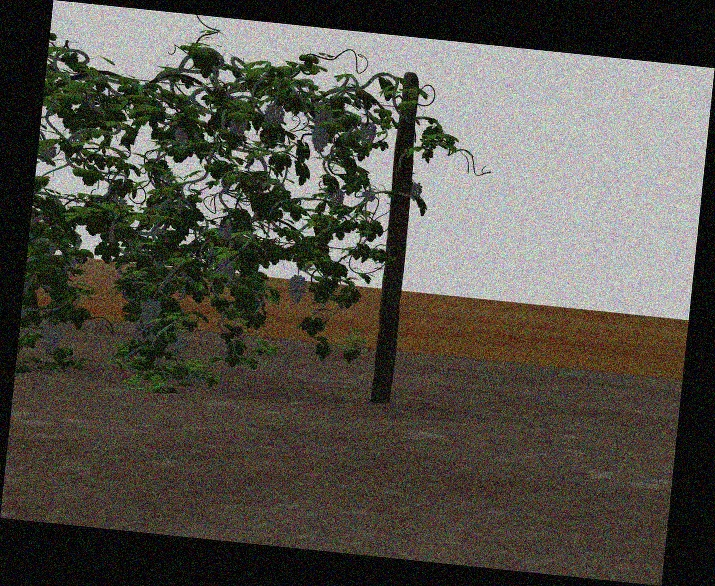grape: (39, 324, 64, 356), (139, 298, 161, 331), (287, 274, 307, 304), (262, 103, 285, 129), (315, 100, 333, 128), (358, 122, 377, 148), (311, 129, 329, 154), (230, 115, 247, 140), (168, 332, 185, 356), (218, 218, 234, 240), (410, 182, 423, 201)
